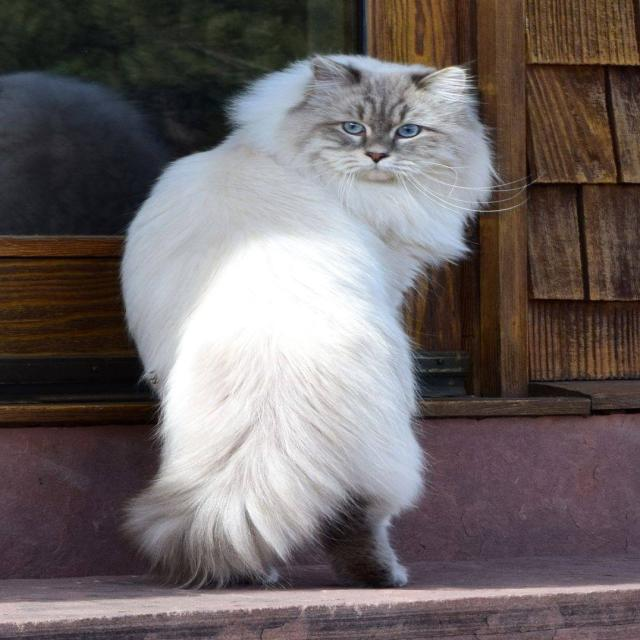Neva Masquerade: (112, 46, 503, 594)
